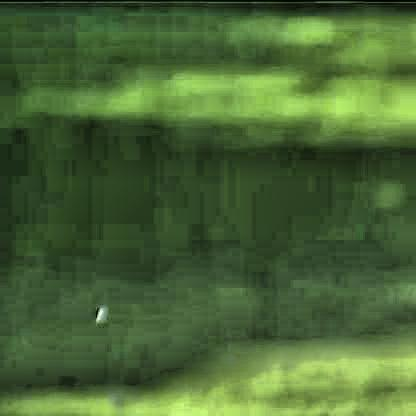golfball: (92, 295, 105, 319)
